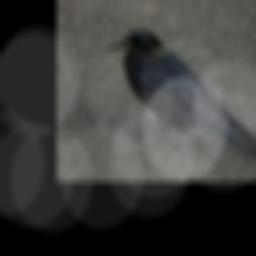Crow: (107, 30, 256, 160)
